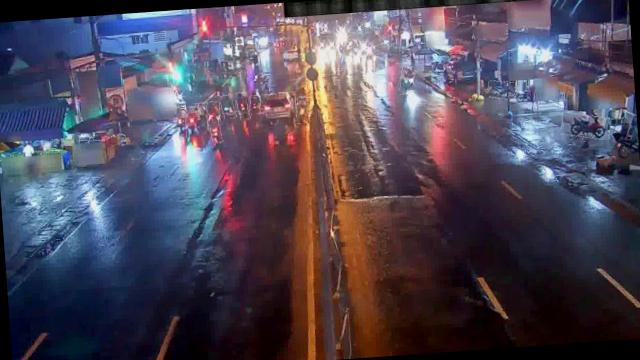Bike: (560, 111, 610, 140), (487, 79, 515, 99), (192, 102, 208, 131), (172, 106, 186, 138), (295, 96, 311, 124), (208, 115, 222, 143), (398, 66, 412, 94), (236, 90, 249, 120), (220, 94, 235, 119), (206, 101, 220, 122), (248, 94, 260, 115), (186, 112, 196, 136), (406, 67, 416, 88)
Car: (261, 92, 297, 131)
